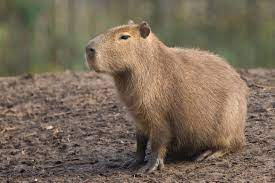capivara: (86, 18, 251, 172)
